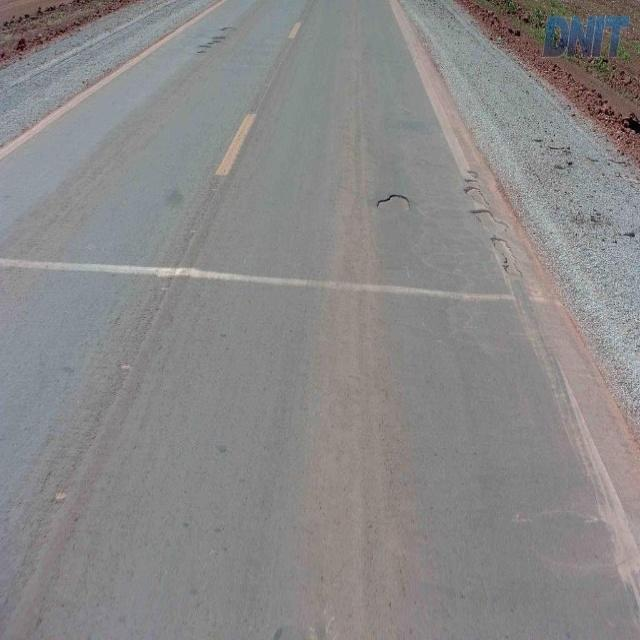pothole: (455, 175, 523, 285), (370, 191, 415, 217)
